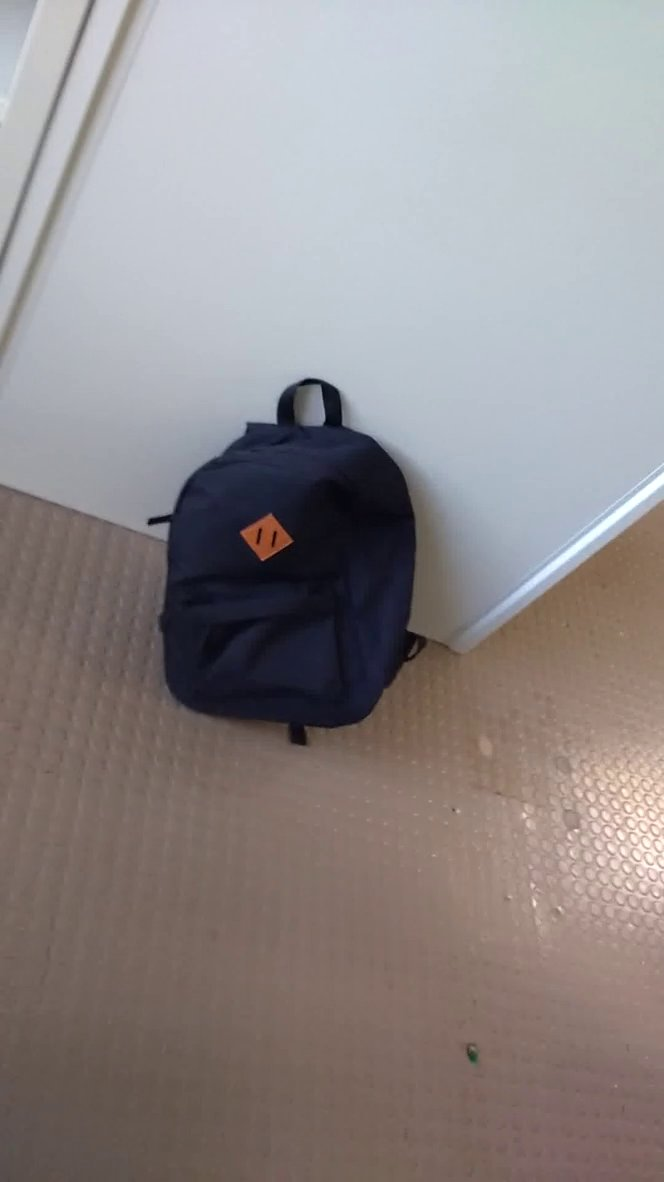bag: (131, 369, 451, 761)
